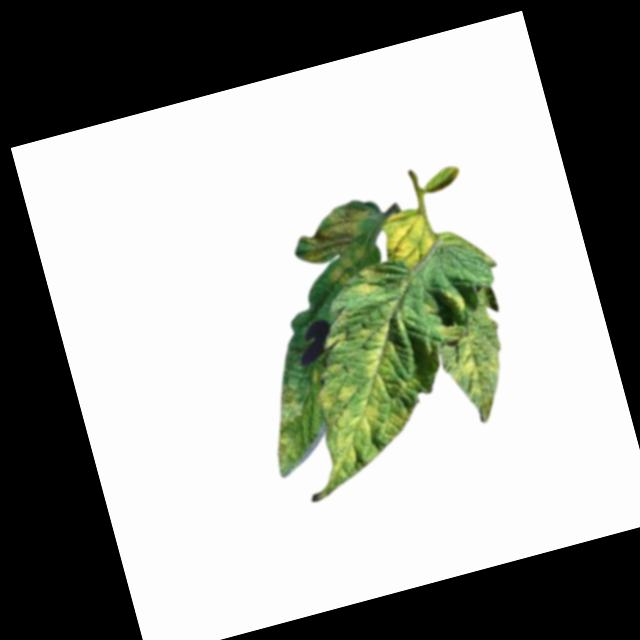Leaf_Mold: (286, 270, 447, 495), (431, 303, 521, 431), (293, 198, 390, 292), (258, 381, 324, 477), (379, 201, 448, 277)
